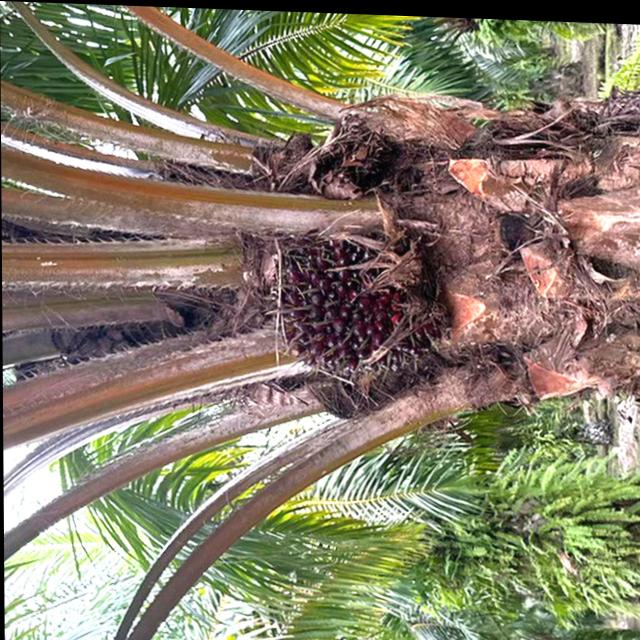ripe: (247, 200, 458, 387)
